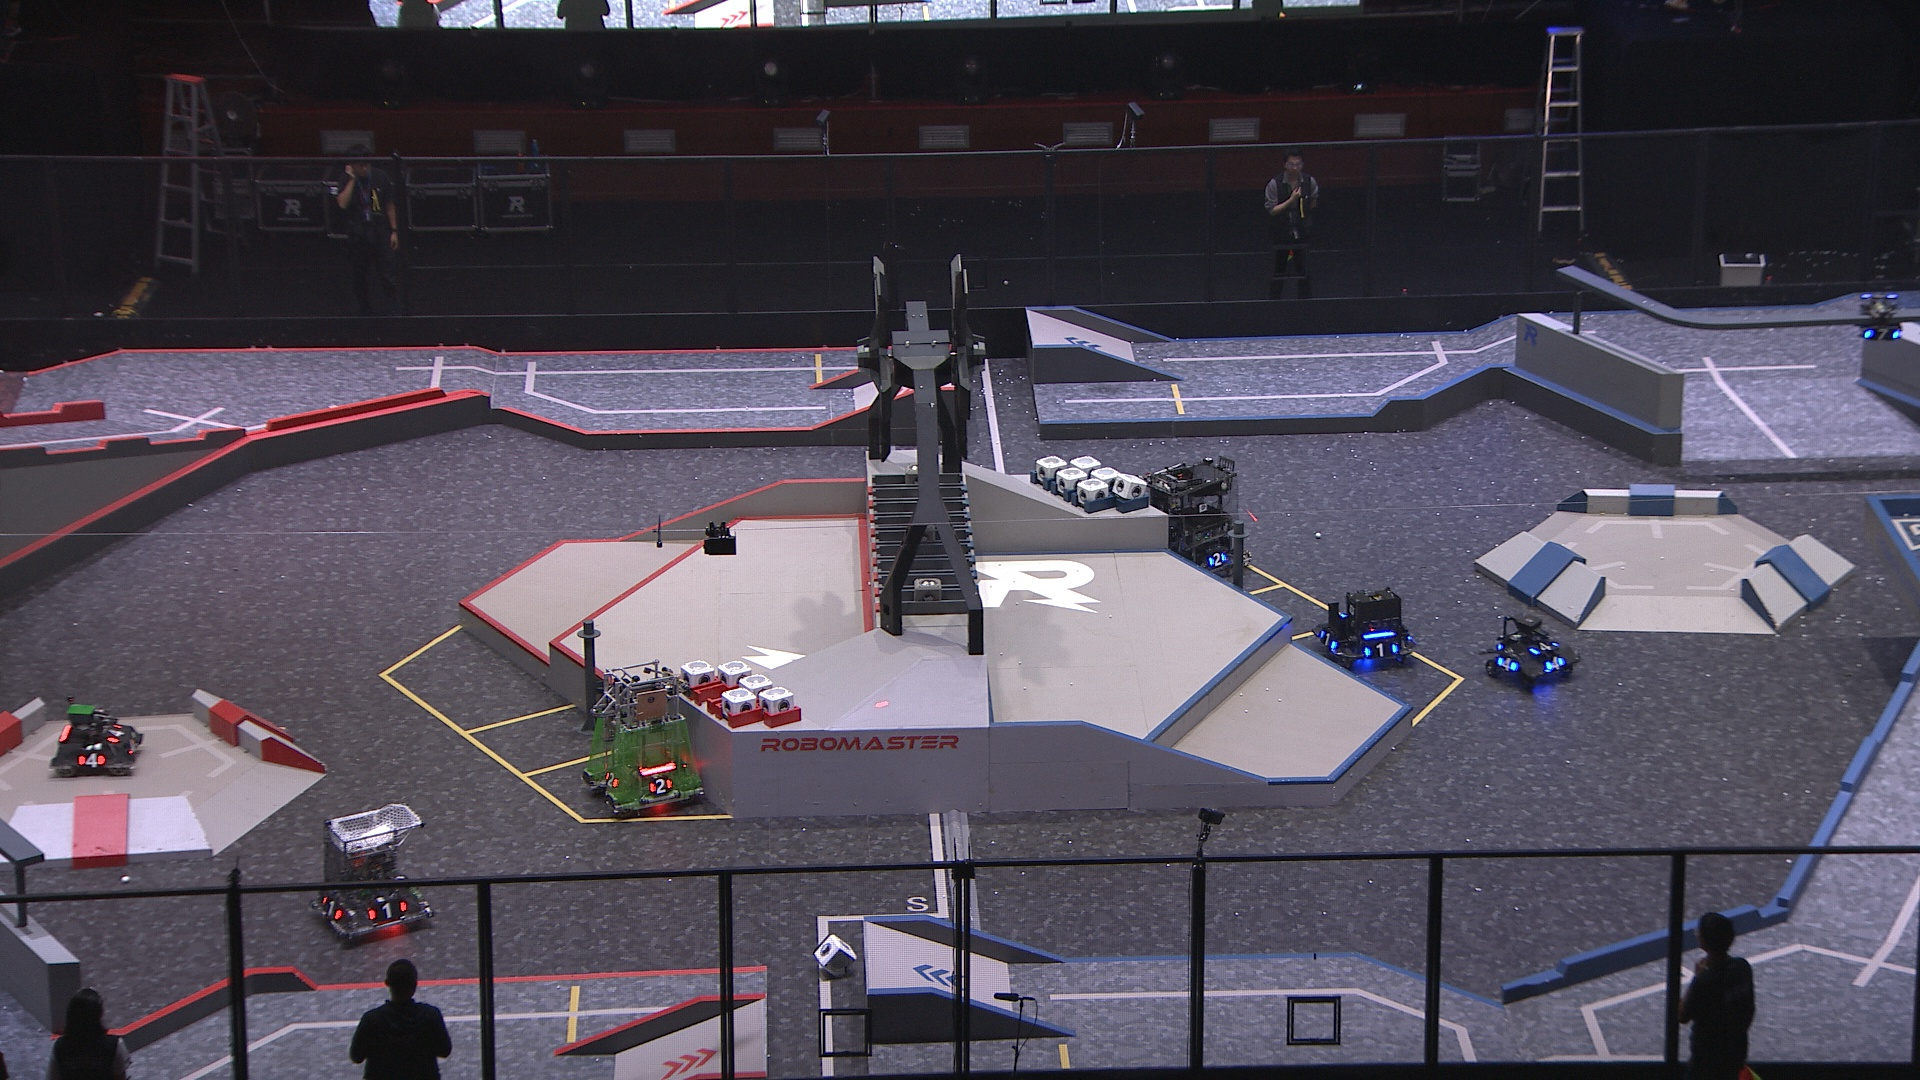armor: (367, 899, 409, 920), (1362, 641, 1400, 659), (320, 894, 342, 920), (1863, 327, 1902, 342), (1493, 654, 1518, 674), (647, 778, 674, 796), (103, 723, 124, 744), (1319, 629, 1338, 651), (73, 756, 105, 769), (1527, 641, 1557, 654), (1544, 655, 1564, 674), (1205, 553, 1228, 568), (125, 735, 140, 756), (603, 771, 618, 790)
car: (580, 659, 703, 818), (305, 802, 433, 943), (1135, 455, 1250, 578), (1311, 583, 1418, 669), (46, 698, 144, 778), (1481, 615, 1581, 692)
watcher: (1851, 291, 1907, 344)
